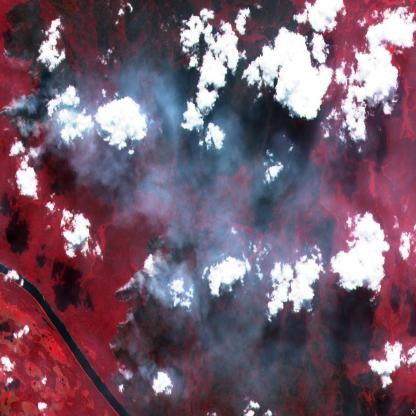fire: (0, 0, 73, 180), (106, 230, 166, 388)
